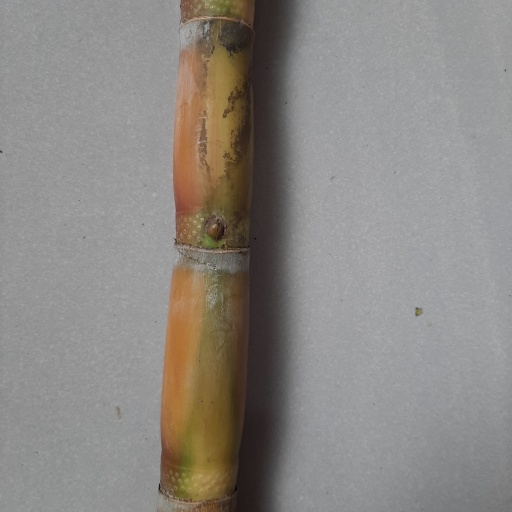Bud: (202, 216, 226, 243)
